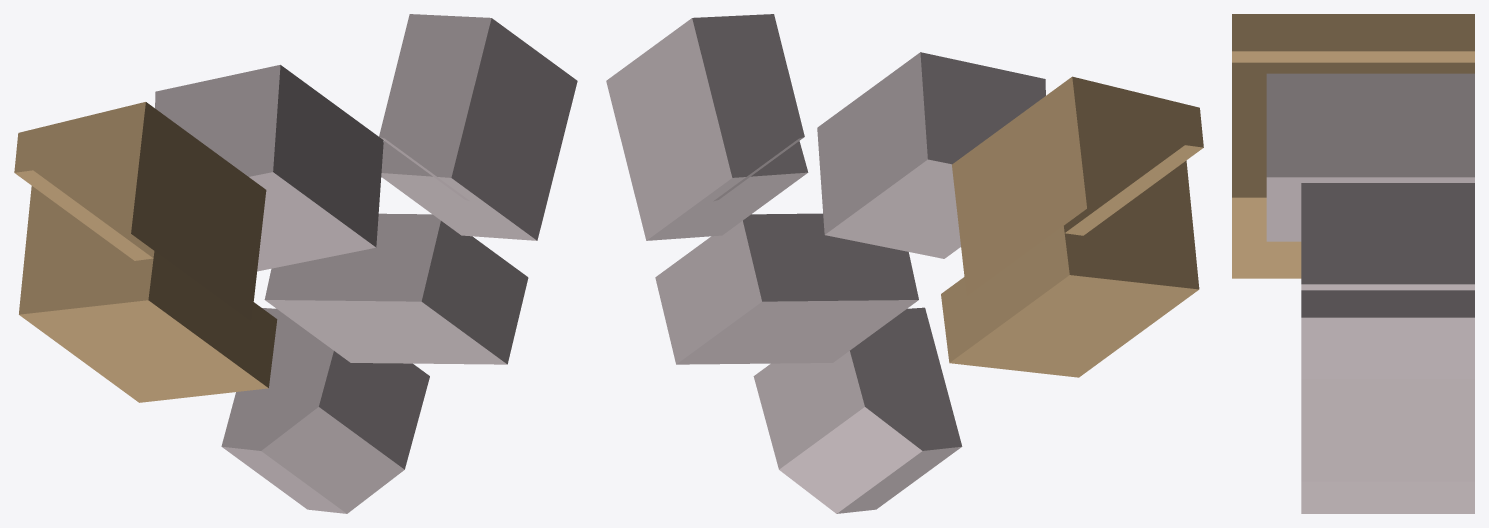
3 views of the same model, side by side, from view 1: azimuth 30°, elevation 25°; view 2: azimuth 150°, elevation 25°; view 3: azimuth 270°, elevation 25° (orthographic).
Parts seen in each view (by area): view 1: 0_3_0_1_1_1_0_3_2; view 2: 0_3_0_1_1_1_0_3_2; view 3: 0_3_0_1_1_1_0_3_2.
Boxes of the visible parts, x1,y1,x2,y2 form: 0_3_0_1_1_1_0_3_2: [14, 14, 577, 513]; 0_3_0_1_1_1_0_3_2: [606, 14, 1203, 513]; 0_3_0_1_1_1_0_3_2: [1232, 14, 1474, 513].
Size of the model in its own units: 48.05 by 38.55 by 21.
